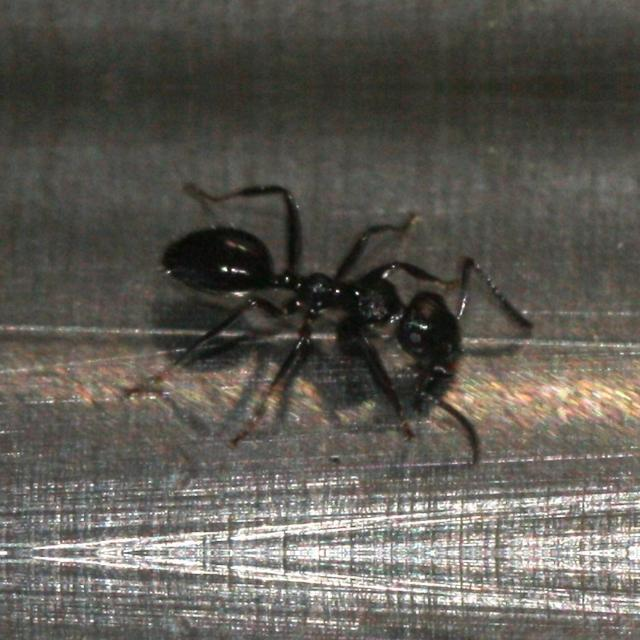Colobopsis: (133, 189, 511, 397)
